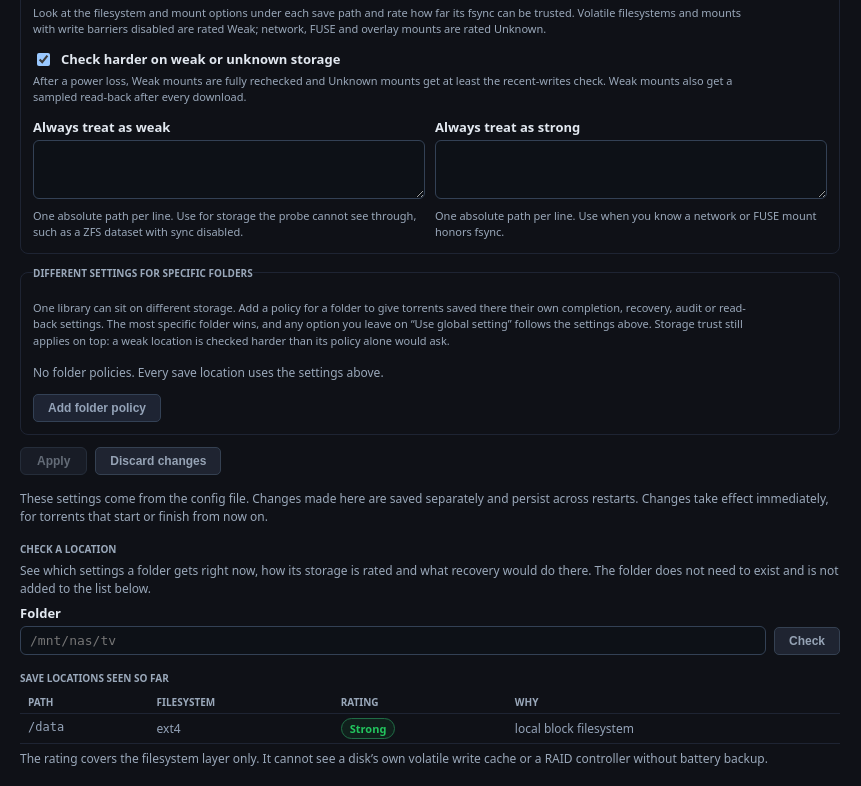
Test: CrashSafetyPanel › says so when no folder policy matches and reports a failed check
(page scrolled)
Step 1. Type "/data" into the field labelled "Folder" → (393, 641), box [20,626,766,655]
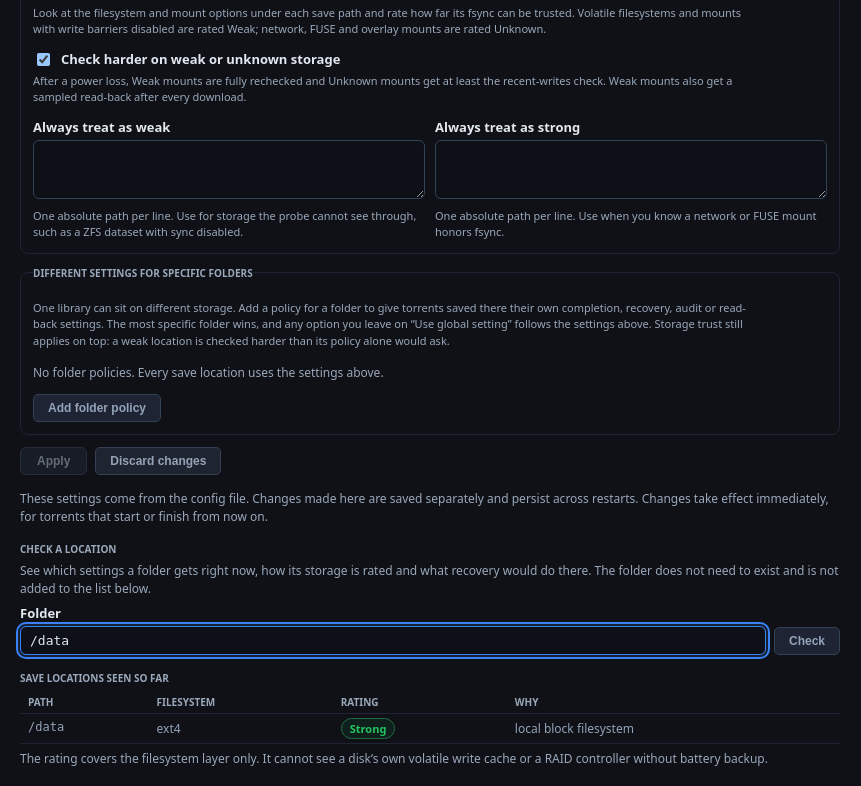
Step 2. Click the button "Check" → (807, 641), box [774,627,840,655]
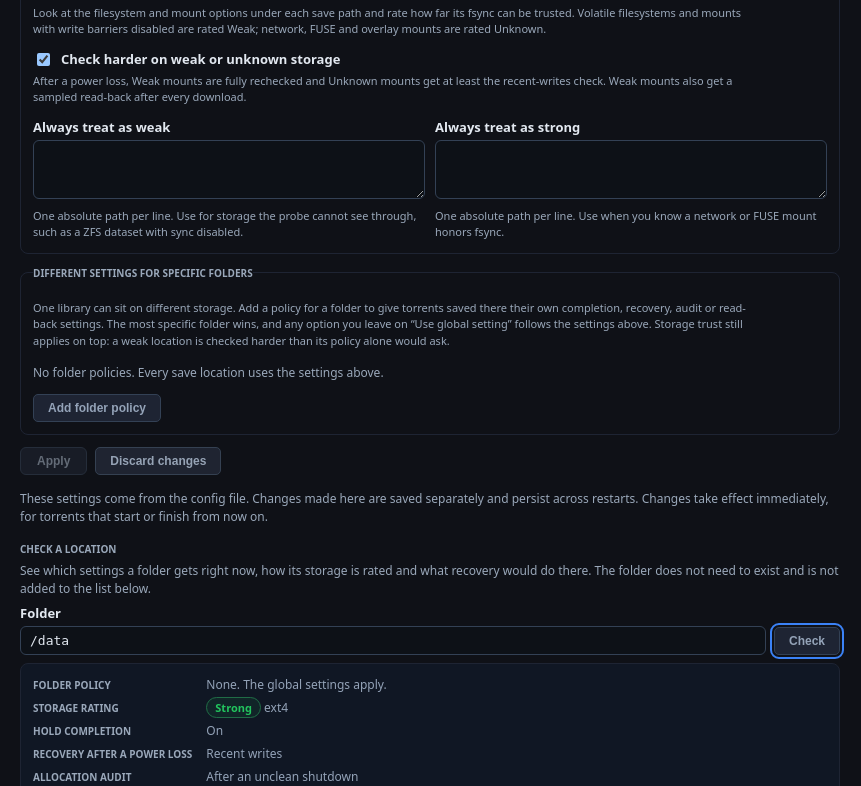
Now the element with test id "path-report" shows "None. The global settings apply.", box [206,676,387,693]
Step 3. Click the button "Check" → (807, 641), box [774,627,840,655]
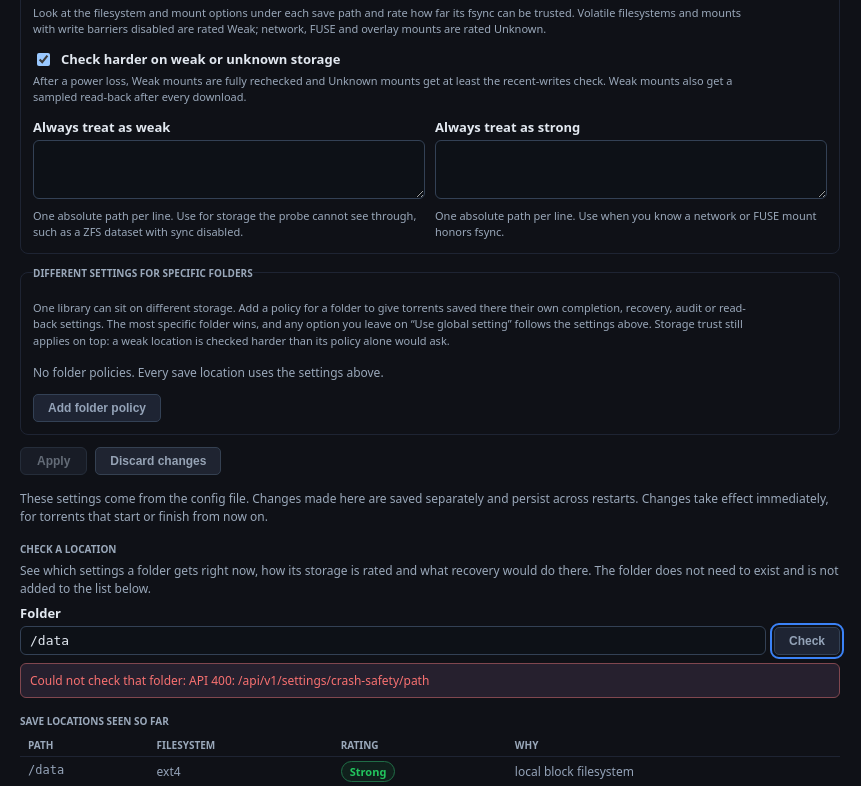
Now the message shows "Could not check that folder: API 400", box [20,663,840,698]
